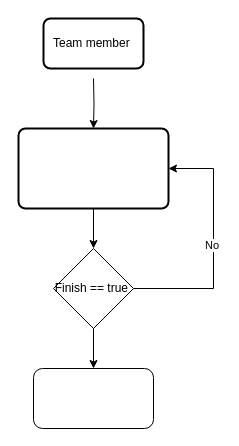
Image size: 239x446. Some labels were removed from this diagram. Each missing label, with the box of its shape:
Answer project quesiton: (17, 127, 169, 209)
Wait for the result to be analyzed: (32, 368, 154, 428)
